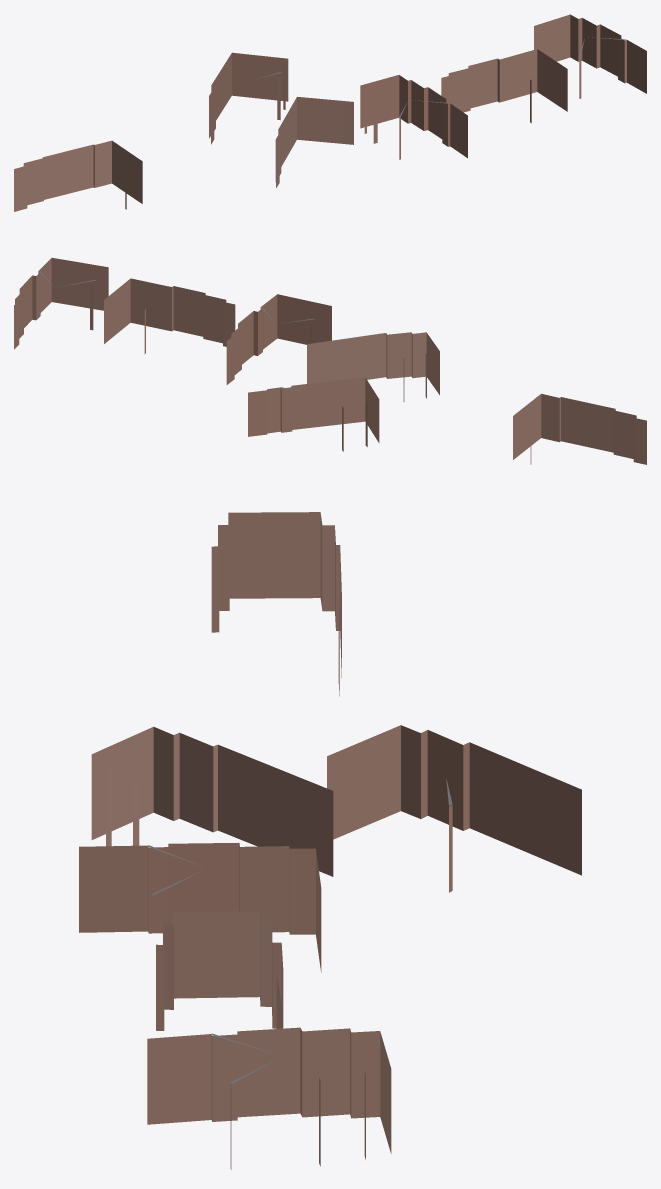
The model's file is c_1636_17832_buildings_residential.glb.
The picture shows the model from 3 angles, top to bottom: view 1: azimuth 30°, elevation 25°; view 2: azimuth 150°, elevation 25°; view 3: azimuth 270°, elevation 25°; orthographic projection. The views are drawn at different scales.
Parts seen in each view (by area): view 1: geometry_0; view 2: geometry_0; view 3: geometry_0.
Part boxes in pixels (bbox=[...]): geometry_0: bbox=[14, 14, 646, 211]; geometry_0: bbox=[14, 258, 646, 464]; geometry_0: bbox=[79, 512, 581, 1169].
Size of the model in its own units: 159 by 11.65 by 58.28.
